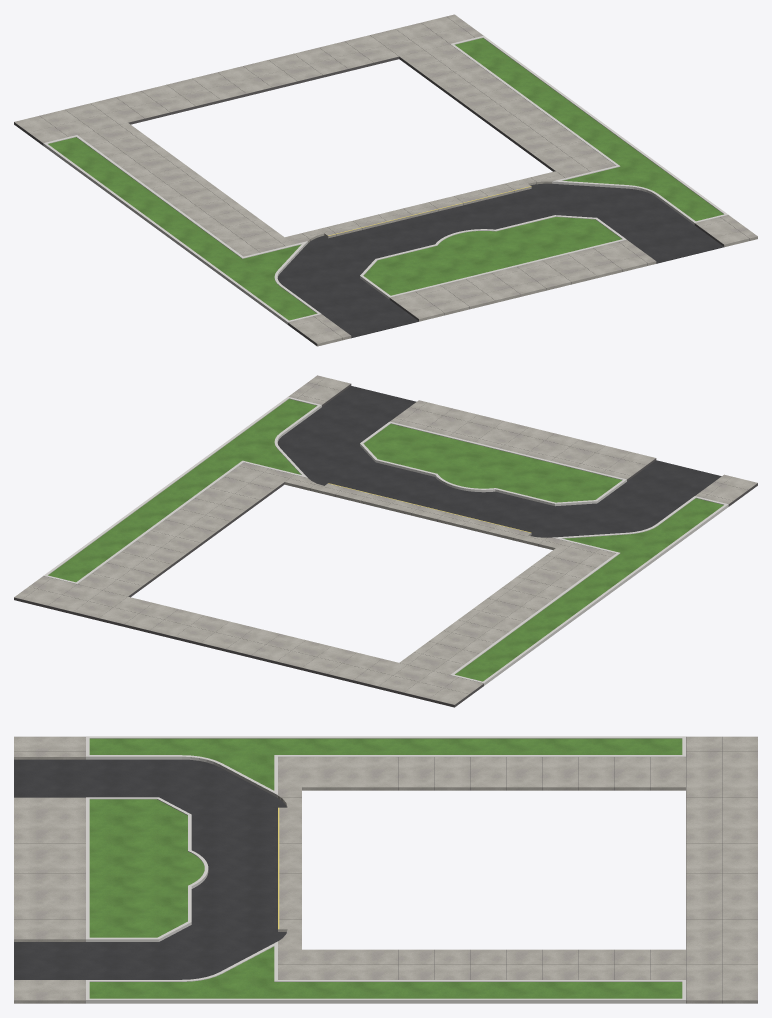
The model's file is site.glb.
The picture shows the model from 3 angles, top to bottom: view 1: azimuth 30°, elevation 25°; view 2: azimuth 150°, elevation 25°; view 3: azimuth 270°, elevation 25°; orthographic projection. The views are drawn at different scales.
Parts seen in each view (by area): view 1: site_concrete, site_grass, site_asphalt, site_curb, site_dark; view 2: site_concrete, site_grass, site_asphalt, site_curb, site_dark; view 3: site_concrete, site_grass, site_asphalt, site_curb, site_dark.
Part boxes in pixels (x1,y1,x2,y2): site_concrete: [14, 14, 757, 346]; site_grass: [48, 38, 723, 320]; site_asphalt: [277, 183, 723, 338]; site_curb: [43, 35, 728, 324]; site_dark: [14, 56, 749, 345]; site_concrete: [14, 375, 757, 704]; site_grass: [48, 399, 723, 681]; site_asphalt: [277, 386, 721, 537]; site_curb: [43, 396, 728, 685]; site_dark: [14, 384, 757, 707]; site_concrete: [14, 736, 757, 1003]; site_grass: [89, 738, 682, 998]; site_asphalt: [14, 759, 286, 979]; site_curb: [86, 736, 685, 1003]; site_dark: [398, 737, 722, 1003].
Bounding box in the file's own units: 26 × 0.16 × 31.
6 materials, 3 textured.
